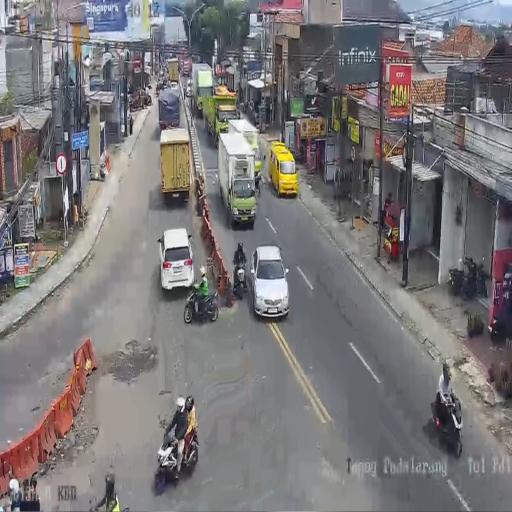car: (249, 244, 289, 320), (158, 228, 194, 292), (269, 140, 298, 198), (490, 272, 512, 340), (186, 78, 193, 97), (170, 81, 178, 91)
motorcycle: (154, 418, 199, 492), (427, 389, 464, 458), (183, 282, 219, 324), (460, 257, 487, 300), (232, 251, 247, 300)
truck: (217, 129, 256, 229), (160, 126, 192, 206), (203, 86, 239, 148), (193, 65, 213, 115), (166, 57, 180, 86), (179, 50, 191, 75)
